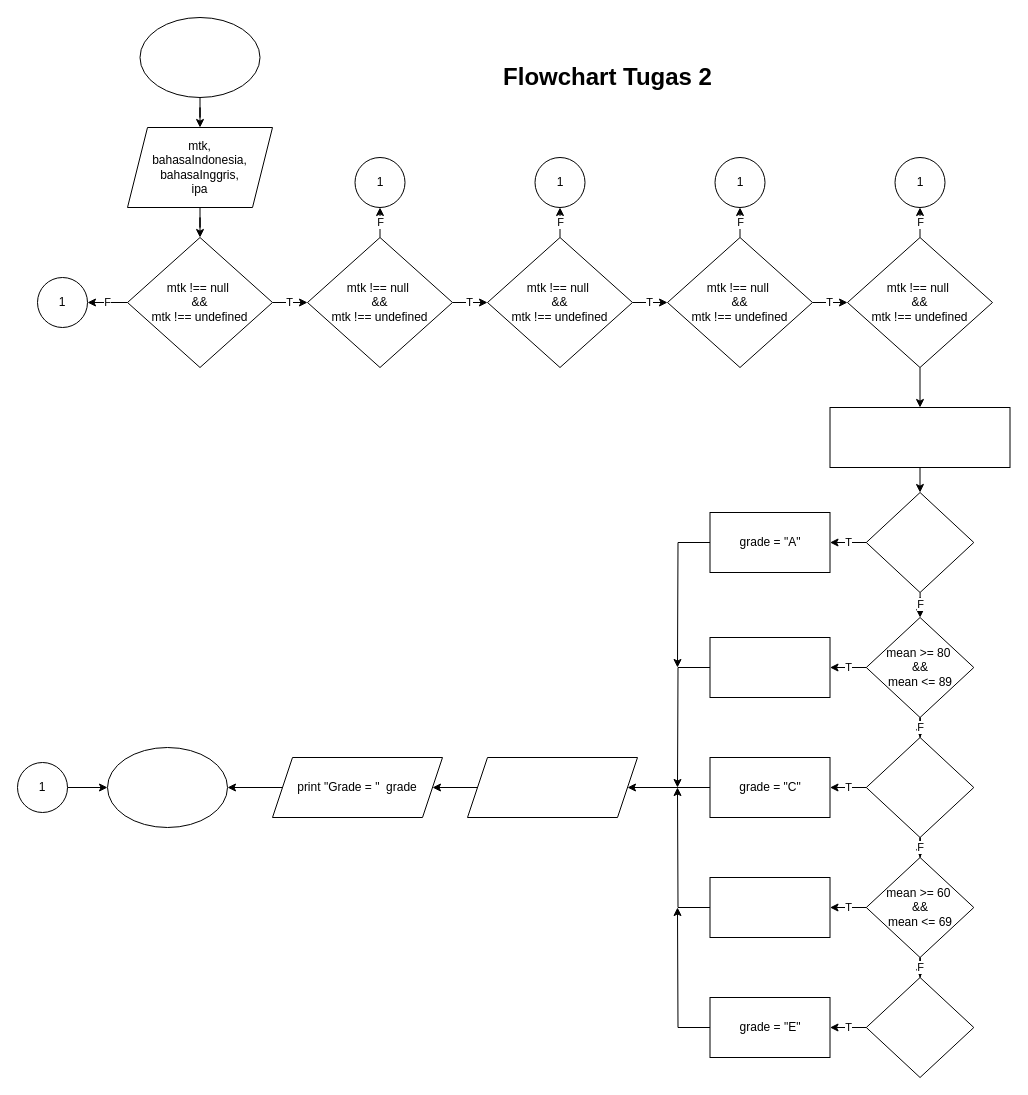
Image size: 1028x1095. Some labels were removed from this diagram. Each missing label, with the box of its shape:
END: (106, 746, 228, 828)
grade = "B": (709, 636, 830, 698)
grade = "D": (709, 876, 830, 938)
mean = (mtk + bahsaInggris + bahasaIndonesia + ipa) / 4: (829, 406, 1010, 468)
mean >= 0 && mean <= 59: (865, 976, 974, 1078)
mean >= 70 && mean <= 79: (865, 736, 974, 838)
mean >= 90 && mean <= 100: (865, 492, 974, 592)
print "Rata-rata = " mean: (466, 756, 638, 818)
START: (139, 16, 260, 98)
